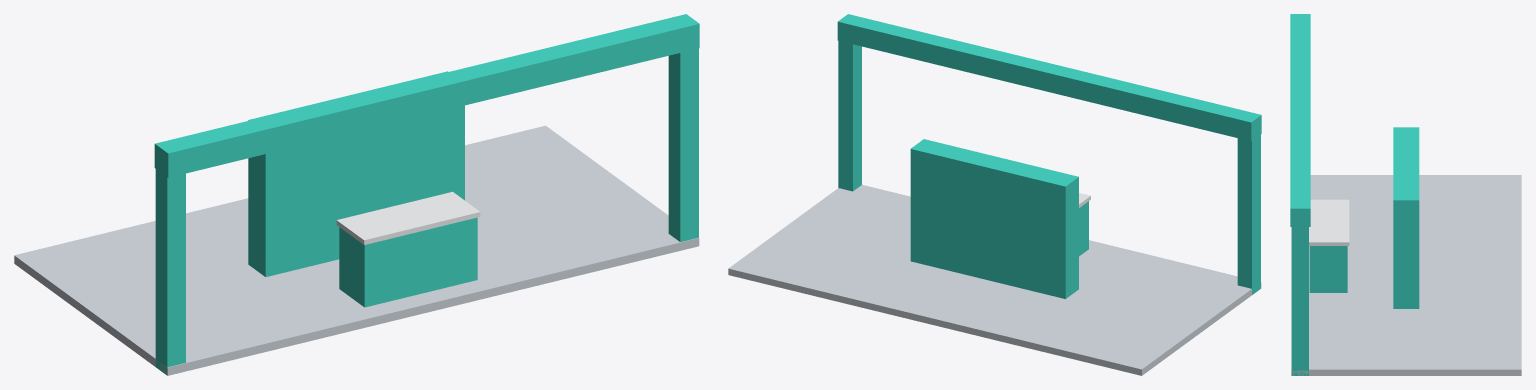
3 renders of one model, left to right at view 1: azimuth 30°, elevation 25°; view 2: azimuth 150°, elevation 25°; view 3: azimuth 270°, elevation 25°, orthographic. The views are drawn at different scales.
Visible parts, largest first — view 1: Exhibition Booth Concept; view 2: Exhibition Booth Concept; view 3: Exhibition Booth Concept.
Part boxes in pixels (x1,y1,x2,y2): Exhibition Booth Concept: [14, 14, 699, 375]; Exhibition Booth Concept: [728, 14, 1261, 375]; Exhibition Booth Concept: [1290, 14, 1521, 375].
Bounding box in the file's own units: 8 × 3.2 × 4.02.
